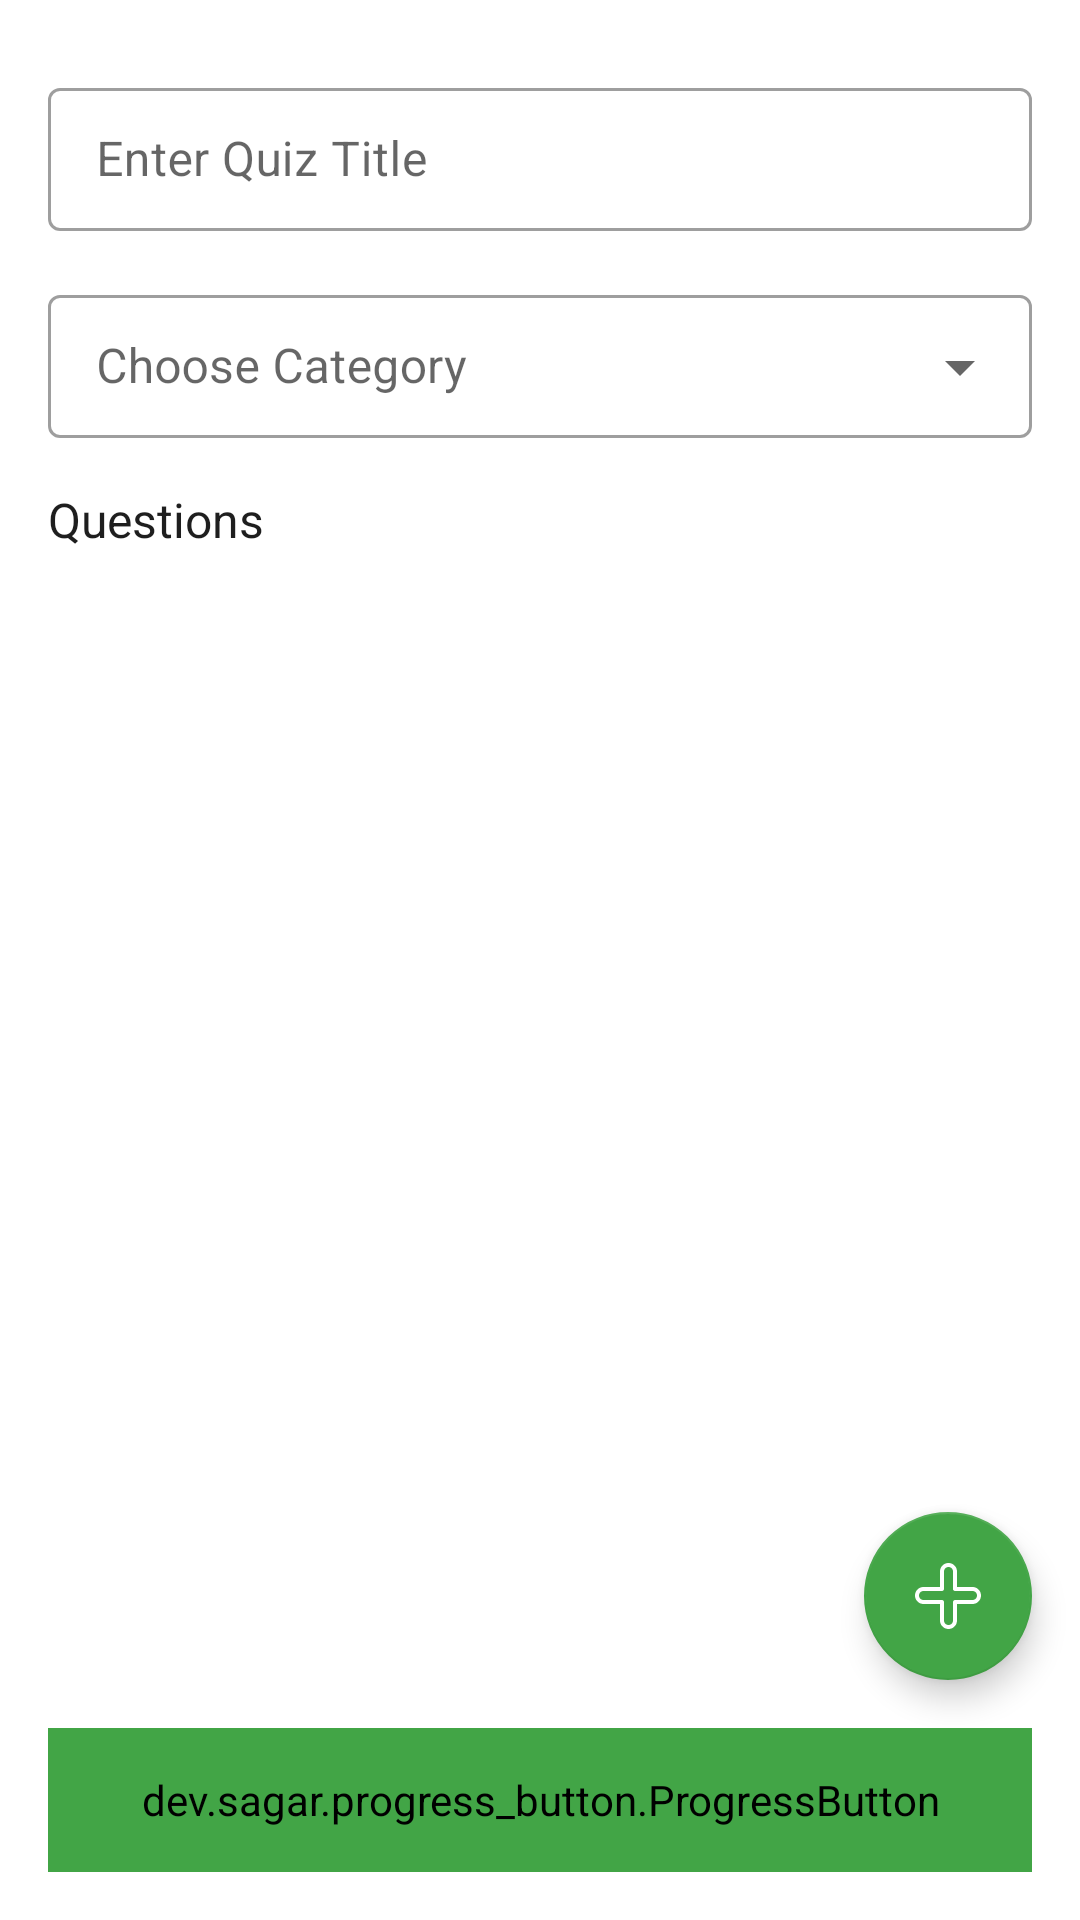

Icon bounding boxes for this 1080 x 1920 phone screenshot, format (x1, y1, x2, y2):
Add Question: (864, 1512, 1032, 1680)
